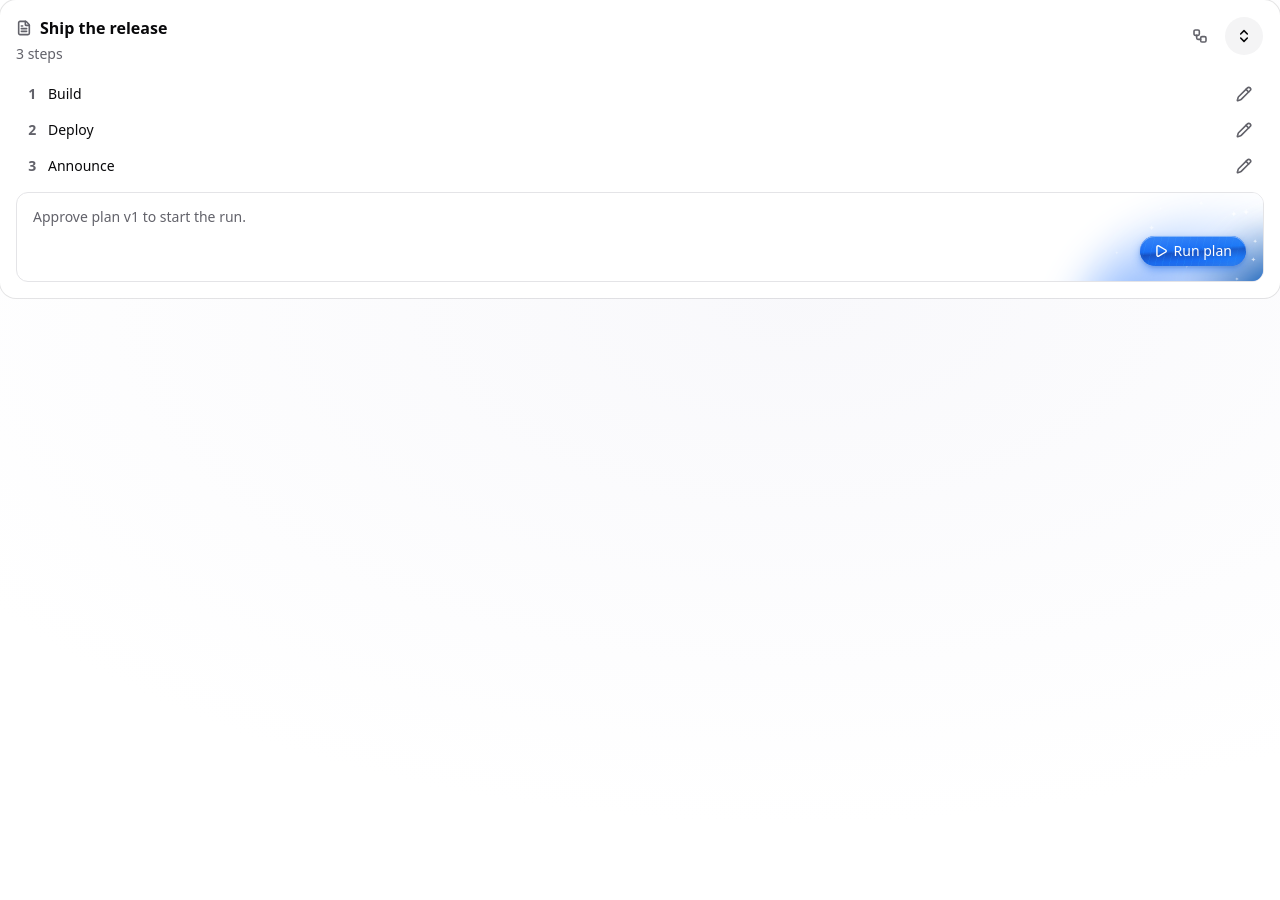
it: RunInline - proposed › opens the workflow dialog
Click the button named "View as workflow": (1200, 36) [1180,16,1220,56]
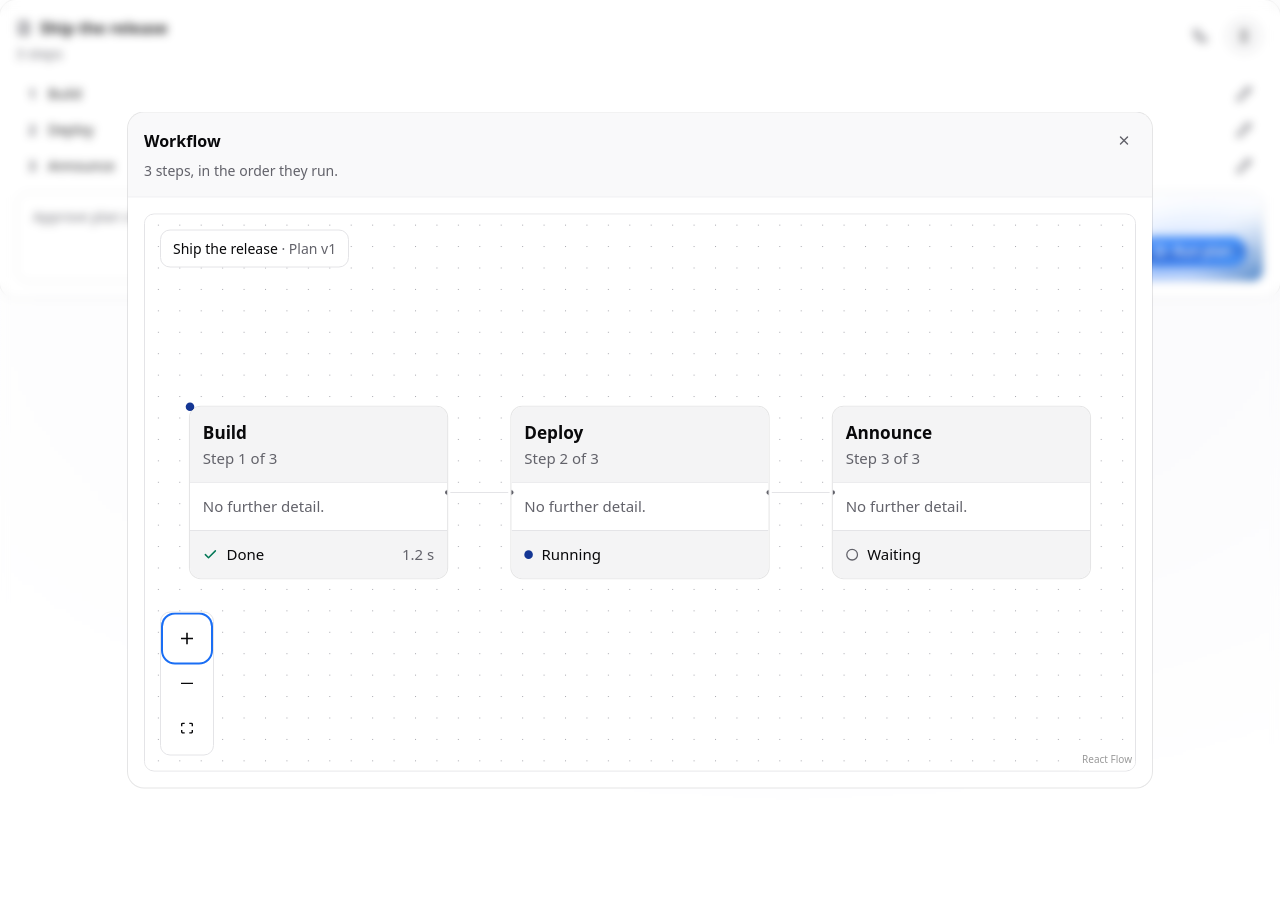
Check: the dialog is shown, box [128,112,1152,788]
